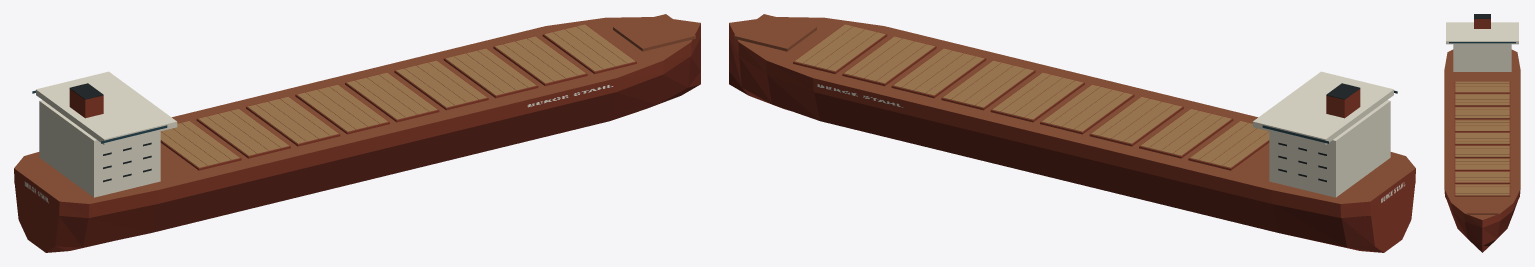
File: ship.dae
The picture shows the model from 3 angles, left to right: view 1: azimuth 30°, elevation 25°; view 2: azimuth 150°, elevation 25°; view 3: azimuth 270°, elevation 25°; orthographic projection. The views are drawn at different scales.
Visible parts, largest first — view 1: Ship; view 2: Ship; view 3: Ship.
Part boxes in pixels (box(x1,y1,x2,y2)): Ship: box(14, 14, 700, 252); Ship: box(729, 14, 1415, 252); Ship: box(1444, 14, 1520, 252).
Bounding box in the file's own units: 342 × 63.5 × 70.35.
Materials: 1 (1 with a texture image).
